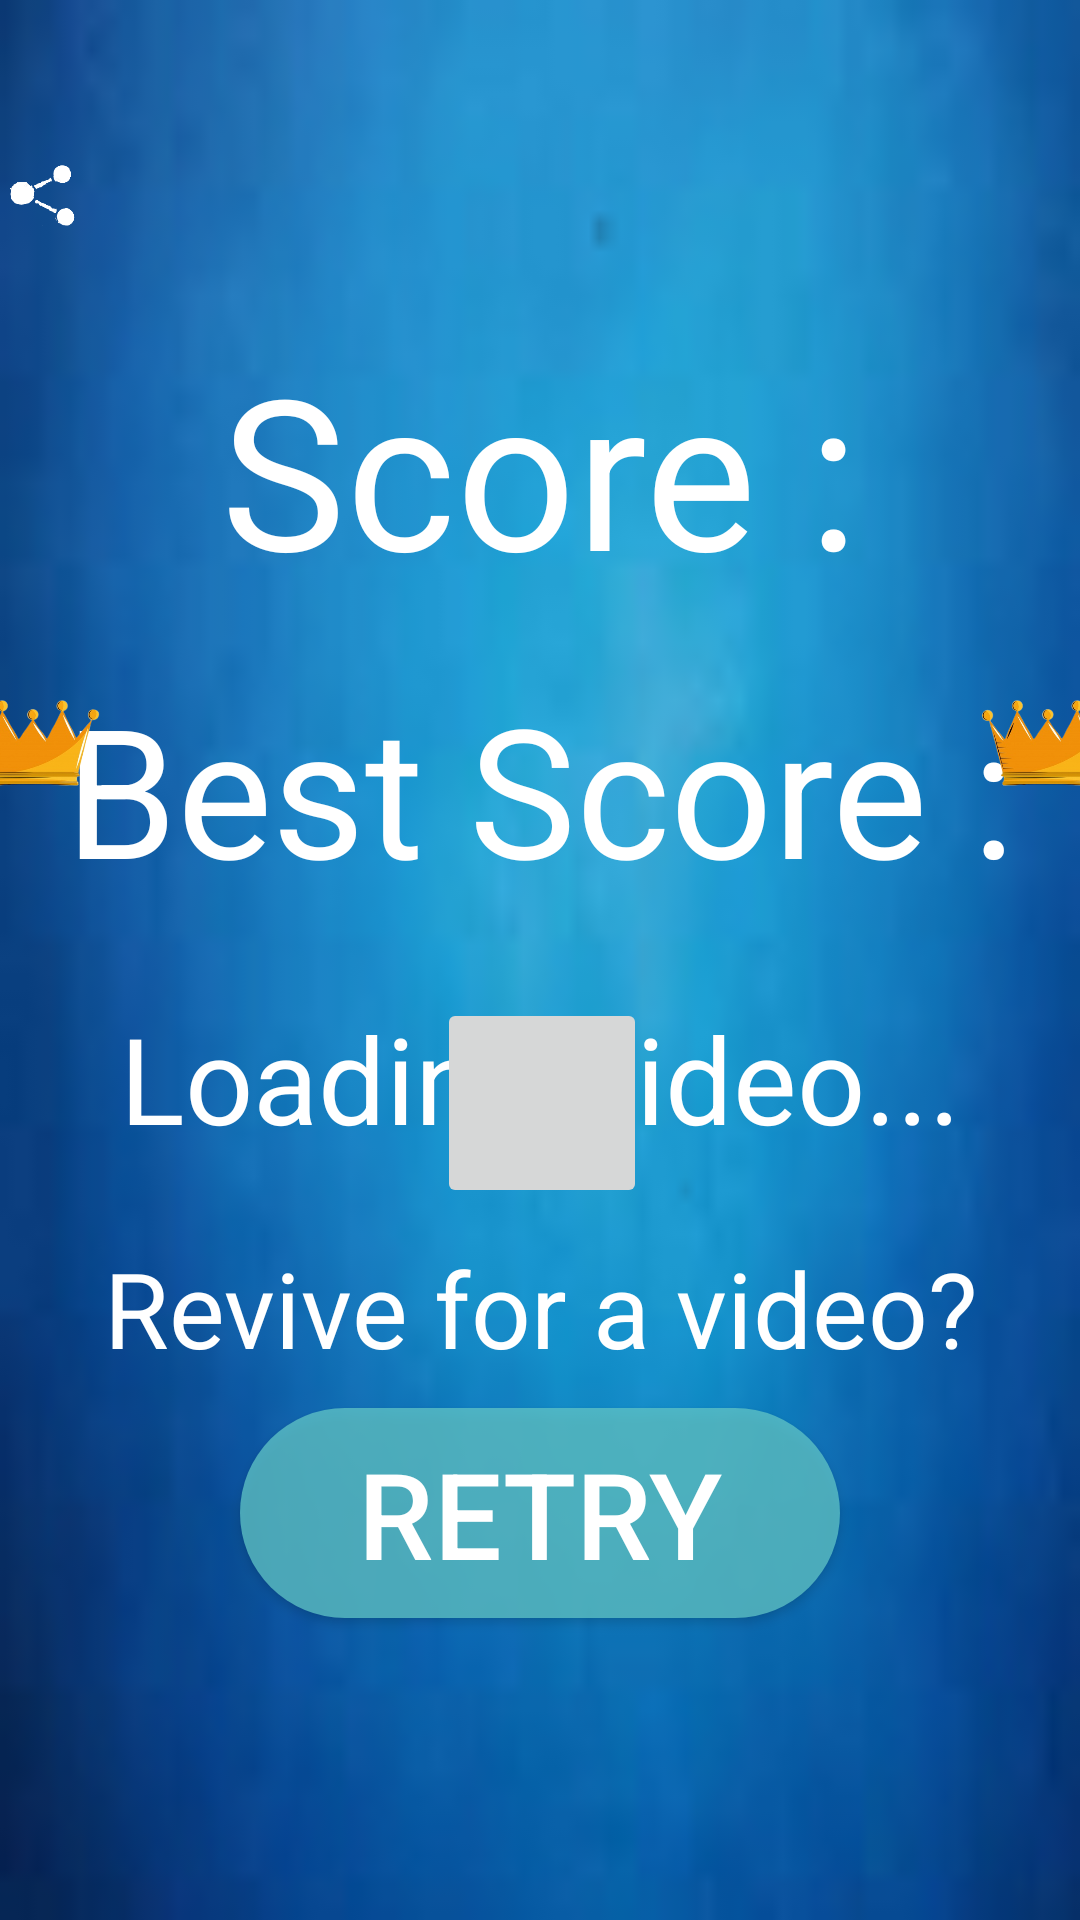

Locate icon controls on the screen. Image size 1080 x 1920, boxes as (left=x1, top=y1, right=x2, bottom=y2).
shareicon: (left=10, top=165, right=75, bottom=226)
